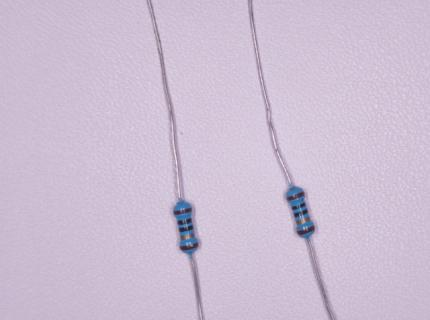Black band: (292, 202, 306, 211), (294, 209, 308, 218), (179, 225, 194, 233), (178, 219, 192, 224)
Brown band: (296, 225, 315, 236), (287, 191, 305, 201), (180, 242, 198, 251), (174, 207, 192, 215)
Gold band: (180, 232, 195, 240), (296, 217, 310, 225)
